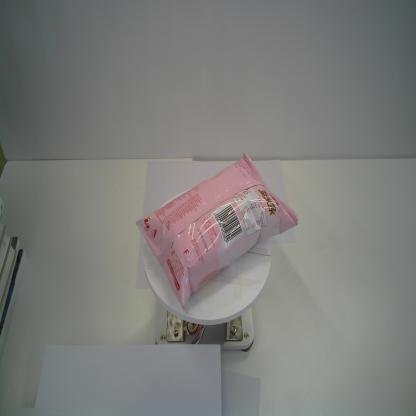Puffed Food: (134, 150, 300, 314)
